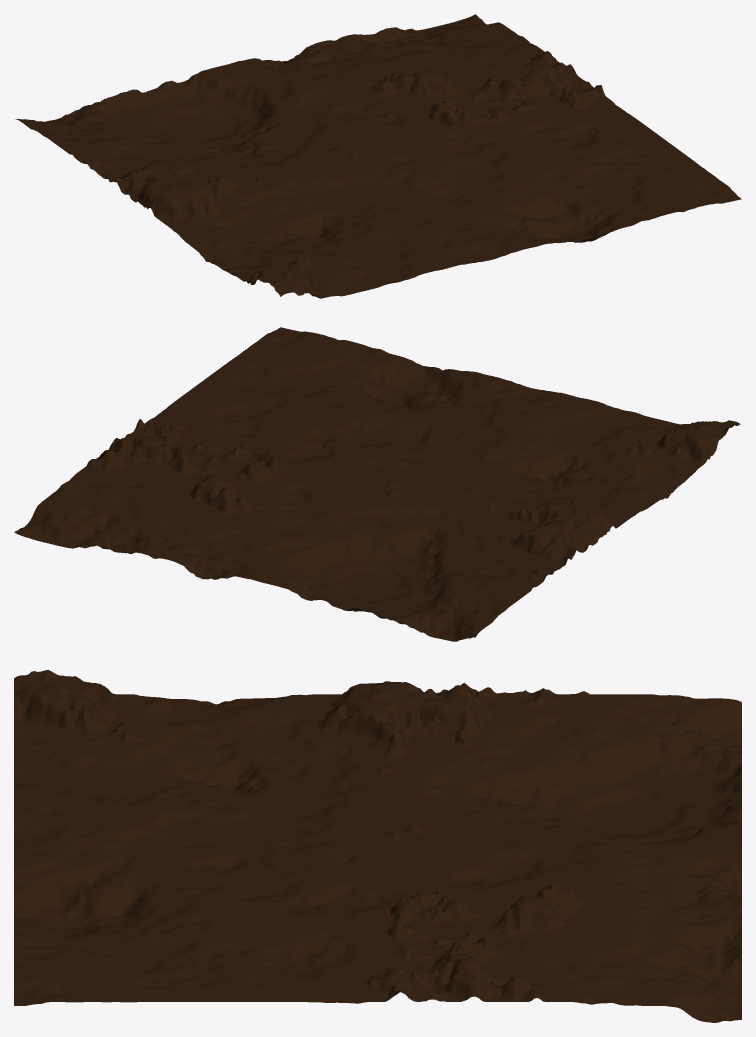
Rendered from 2x2.3_Squares_200m_005.glb.
The picture shows the model from 3 angles, top to bottom: view 1: azimuth 30°, elevation 25°; view 2: azimuth 150°, elevation 25°; view 3: azimuth 270°, elevation 25°; orthographic projection. The views are drawn at different scales.
Parts seen in each view (by area): view 1: Cube; view 2: Cube; view 3: Cube.
Part boxes in pixels (left/top/right/bottom): Cube: left=16, top=14, right=741, bottom=298; Cube: left=14, top=327, right=740, bottom=641; Cube: left=14, top=670, right=741, bottom=1022.
Bounding box in the file's own units: 500 × 38.93 × 500.
